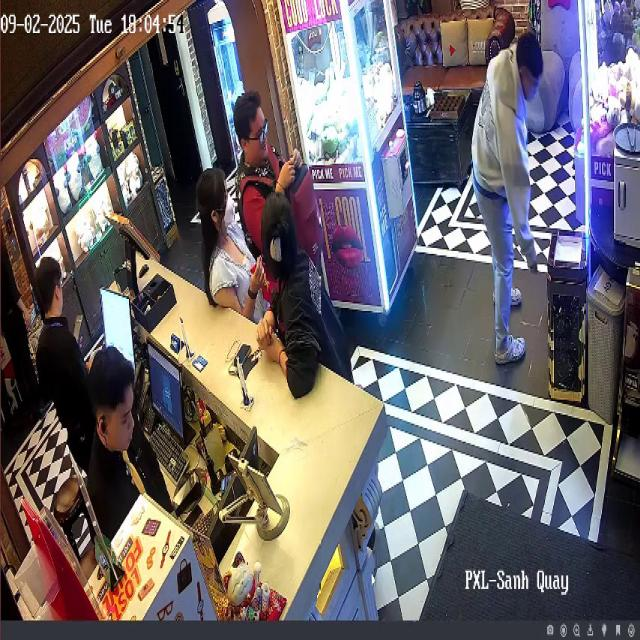khach: (468, 28, 545, 365), (257, 188, 355, 411), (235, 74, 335, 271), (190, 158, 268, 333)
nhan vien: (30, 244, 96, 475), (83, 341, 155, 546)
